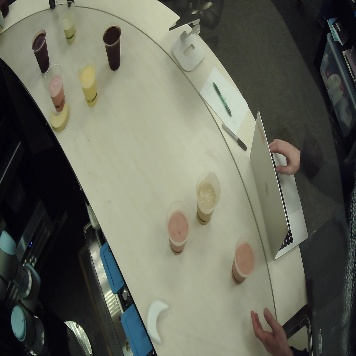full_cup: (193, 168, 222, 227), (165, 198, 194, 257), (232, 226, 261, 285), (101, 22, 123, 71), (77, 60, 99, 109), (43, 61, 65, 110), (31, 25, 53, 74), (57, 1, 82, 44)
puck: (141, 295, 174, 346), (46, 102, 70, 134)
